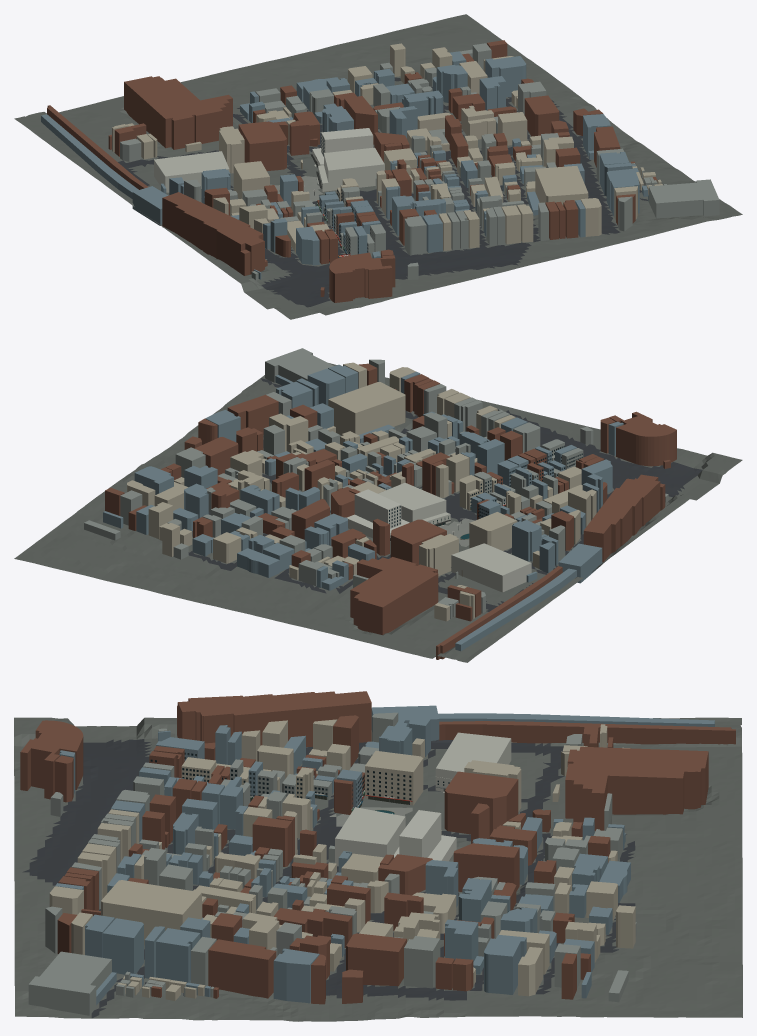
Rendered from reconstruction-adopted.gltf.
3 renders of one model, top to bottom at view 1: azimuth 30°, elevation 25°; view 2: azimuth 150°, elevation 25°; view 3: azimuth 270°, elevation 25°, orthographic. The views are drawn at different scales.
Parts seen in each view (by area): view 1: period-ground-surface, bldg_c53f7060-6396-4640-afa2-bcd49763d7a4, bldg_d4b3cef2-fb52-49ca-bc5f-4592b4b85585, bldg_0ec83f8f-1b0b-45c2-82c9-f56cc5cbb396, bldg_58ef3c46-5224-44f3-bfdf-be7268c4ed99, bldg_6cfc385a-5faf-4275-93a8-5d879a78edad, bldg_c09928a2-a356-4c76-9f8f-4fb1fb97475c, milano-roof-proxy, koma-south-roof-proxy, bldg_079901fb-4c17-4429-a5f3-9777d0370871, bldg_37434a8b-e394-4ef2-b96a-b67b5f6a1d9b, bldg_ca1d2f51-6650-415c-8aa3-baaa7b4b8903 (+26 smaller); view 2: period-ground-surface, bldg_c53f7060-6396-4640-afa2-bcd49763d7a4, bldg_d4b3cef2-fb52-49ca-bc5f-4592b4b85585, bldg_c09928a2-a356-4c76-9f8f-4fb1fb97475c, bldg_0ec83f8f-1b0b-45c2-82c9-f56cc5cbb396, milano-roof-proxy, bldg_079901fb-4c17-4429-a5f3-9777d0370871, koma-south-roof-proxy, bldg_6cfc385a-5faf-4275-93a8-5d879a78edad, bldg_58ef3c46-5224-44f3-bfdf-be7268c4ed99, bldg_37434a8b-e394-4ef2-b96a-b67b5f6a1d9b, bldg_48706274-cad7-4b02-961b-43f466467f5f (+35 smaller); view 3: period-ground-surface, bldg_c53f7060-6396-4640-afa2-bcd49763d7a4, bldg_d4b3cef2-fb52-49ca-bc5f-4592b4b85585, bldg_37434a8b-e394-4ef2-b96a-b67b5f6a1d9b, bldg_58ef3c46-5224-44f3-bfdf-be7268c4ed99, bldg_c09928a2-a356-4c76-9f8f-4fb1fb97475c, bldg_6cfc385a-5faf-4275-93a8-5d879a78edad, bldg_aa98b8d0-41a4-4b17-982d-27e6da17cd7c, bldg_0ec83f8f-1b0b-45c2-82c9-f56cc5cbb396, koma-south-roof-proxy, bldg_ca1d2f51-6650-415c-8aa3-baaa7b4b8903, bldg_48706274-cad7-4b02-961b-43f466467f5f (+73 smaller).
Boxes of the visible parts, x1,y1,x2,y2 form: period-ground-surface: (14,14,742,319); bldg_c53f7060-6396-4640-afa2-bcd49763d7a4: (124,76,232,149); bldg_d4b3cef2-fb52-49ca-bc5f-4592b4b85585: (162,192,264,274); bldg_0ec83f8f-1b0b-45c2-82c9-f56cc5cbb396: (329,252,395,302); bldg_58ef3c46-5224-44f3-bfdf-be7268c4ed99: (648,179,719,218); bldg_6cfc385a-5faf-4275-93a8-5d879a78edad: (238,121,286,170); bldg_c09928a2-a356-4c76-9f8f-4fb1fb97475c: (535,166,588,205); milano-roof-proxy: (154,151,229,192); koma-south-roof-proxy: (324,147,384,182); bldg_079901fb-4c17-4429-a5f3-9777d0370871: (41,114,138,198); bldg_37434a8b-e394-4ef2-b96a-b67b5f6a1d9b: (47,105,148,189); bldg_ca1d2f51-6650-415c-8aa3-baaa7b4b8903: (524,95,559,136); period-ground-surface: (14,363,742,662); bldg_c53f7060-6396-4640-afa2-bcd49763d7a4: (350,557,438,634); bldg_d4b3cef2-fb52-49ca-bc5f-4592b4b85585: (583,474,660,562); bldg_c09928a2-a356-4c76-9f8f-4fb1fb97475c: (328,382,405,435); bldg_0ec83f8f-1b0b-45c2-82c9-f56cc5cbb396: (609,411,676,466); milano-roof-proxy: (451,543,531,592); bldg_079901fb-4c17-4429-a5f3-9777d0370871: (455,568,576,651); koma-south-roof-proxy: (378,482,446,521); bldg_6cfc385a-5faf-4275-93a8-5d879a78edad: (390,519,446,565); bldg_58ef3c46-5224-44f3-bfdf-be7268c4ed99: (265,348,333,382); bldg_37434a8b-e394-4ef2-b96a-b67b5f6a1d9b: (436,566,562,659); bldg_48706274-cad7-4b02-961b-43f466467f5f: (469,512,517,550); period-ground-surface: (14,717,742,1021); bldg_c53f7060-6396-4640-afa2-bcd49763d7a4: (565,746,708,830); bldg_d4b3cef2-fb52-49ca-bc5f-4592b4b85585: (177,691,371,747); bldg_37434a8b-e394-4ef2-b96a-b67b5f6a1d9b: (439,721,735,744); bldg_58ef3c46-5224-44f3-bfdf-be7268c4ed99: (28,951,111,1015); bldg_c09928a2-a356-4c76-9f8f-4fb1fb97475c: (101,880,201,945); bldg_6cfc385a-5faf-4275-93a8-5d879a78edad: (444,771,518,835); bldg_aa98b8d0-41a4-4b17-982d-27e6da17cd7c: (208,939,276,998); bldg_0ec83f8f-1b0b-45c2-82c9-f56cc5cbb396: (20,720,83,799); koma-south-roof-proxy: (335,807,405,857); bldg_ca1d2f51-6650-415c-8aa3-baaa7b4b8903: (346,933,406,986); bldg_48706274-cad7-4b02-961b-43f466467f5f: (365,750,423,805).
Size of the model in its own units: 451 by 34.11 by 476.
